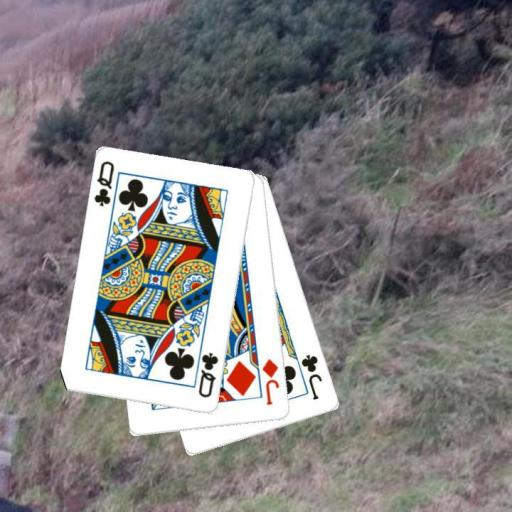JC: (298, 351, 324, 402)
JD: (259, 356, 281, 407)
QC: (196, 349, 221, 400), (91, 158, 116, 208)
